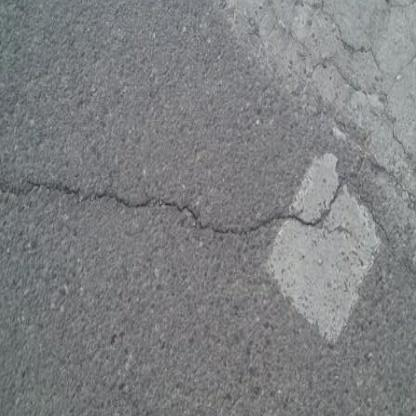Cracks: (0, 136, 416, 265), (199, 0, 416, 135)
